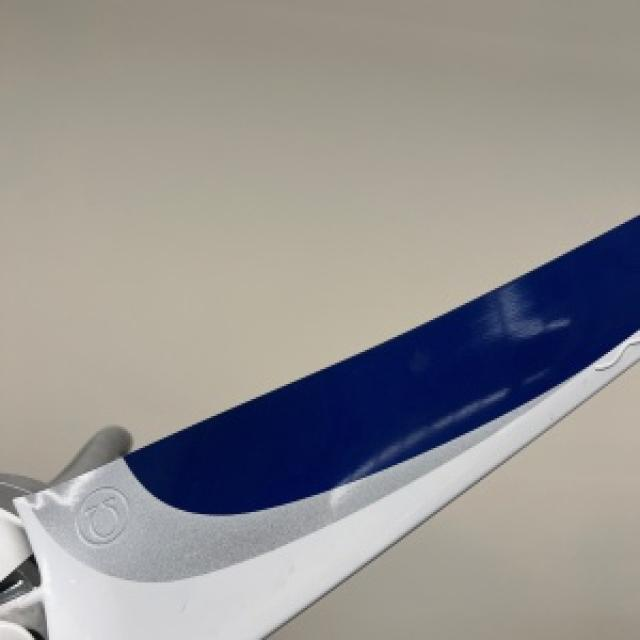healthy: (13, 215, 638, 634)
